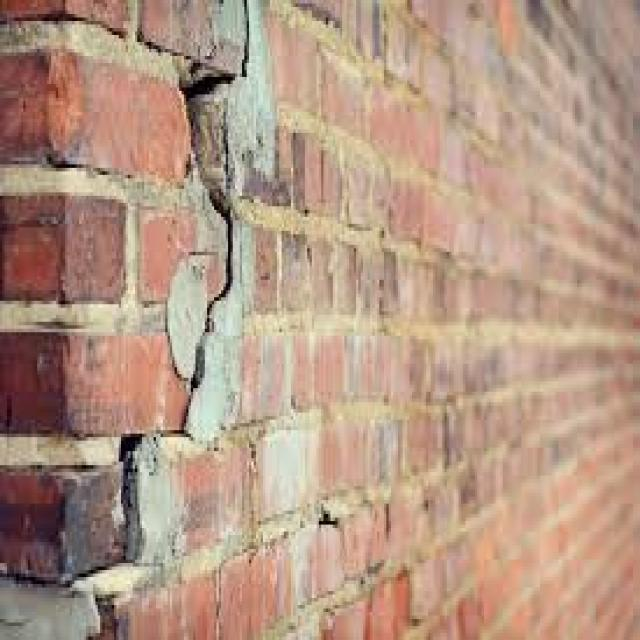Crack: (76, 0, 254, 637)
